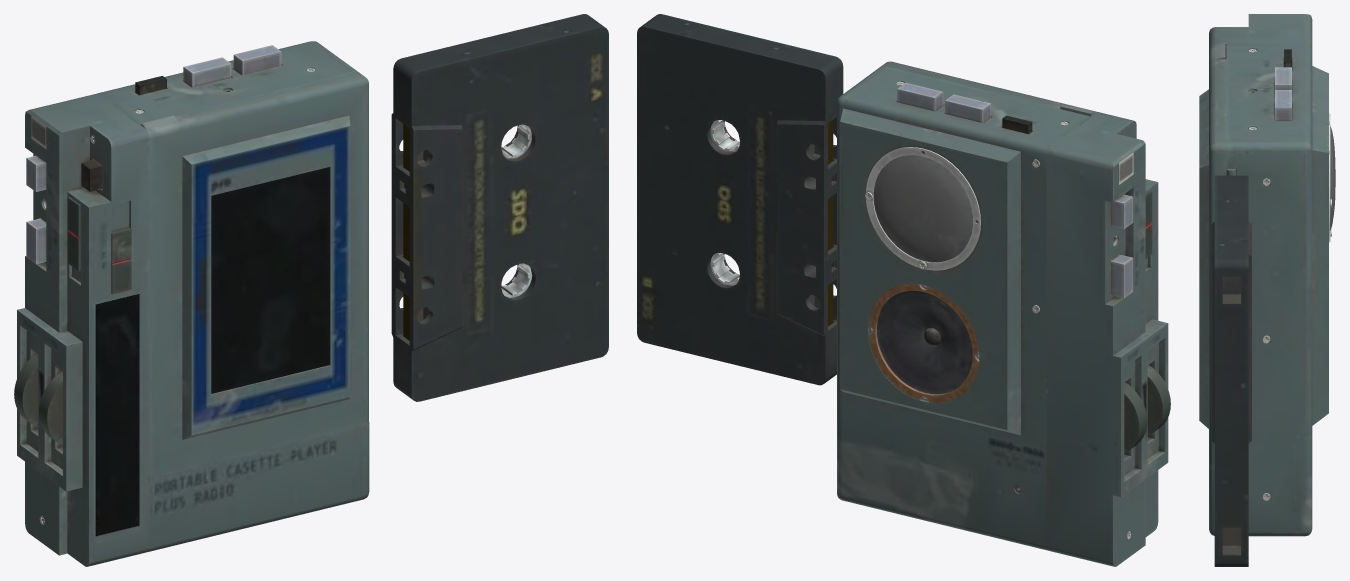
File: portable_cassette_player.694c7fac.glb
3 renders of one model, left to right at view 1: azimuth 30°, elevation 25°; view 2: azimuth 150°, elevation 25°; view 3: azimuth 270°, elevation 25°, orthographic. The views are drawn at different scales.
Parts seen in each view (by area): view 1: portable_cassette_player, portable_cassette_player_lid, portable_cassette_player_casette; view 2: portable_cassette_player, portable_cassette_player_casette, portable_cassette_player_lid; view 3: portable_cassette_player, portable_cassette_player_casette, portable_cassette_player_lid.
Part boxes in pixels (x1,y1,x2,y2): portable_cassette_player: (14, 41, 369, 566); portable_cassette_player_lid: (141, 72, 368, 476); portable_cassette_player_casette: (391, 14, 608, 401); portable_cassette_player: (837, 66, 1170, 566); portable_cassette_player_casette: (637, 14, 843, 385); portable_cassette_player_lid: (881, 61, 1096, 116); portable_cassette_player: (1209, 14, 1335, 536); portable_cassette_player_casette: (1211, 175, 1251, 566); portable_cassette_player_lid: (1199, 42, 1235, 466).
Size of the model in its own units: 0.95 by 0.7187 by 0.2188.
Materials: 2 (2 with a texture image).
